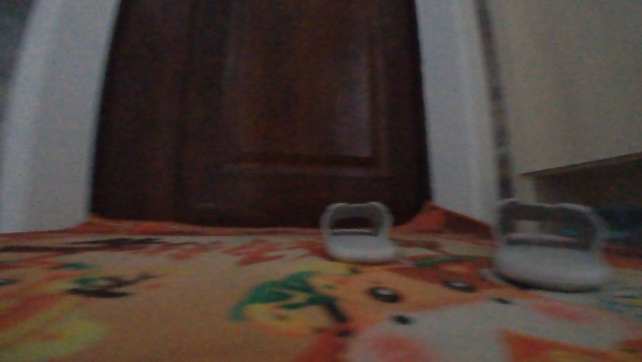blanket: (0, 201, 641, 361)
door_anno: (89, 1, 437, 223)
slipper: (481, 194, 609, 292), (317, 199, 397, 264)
